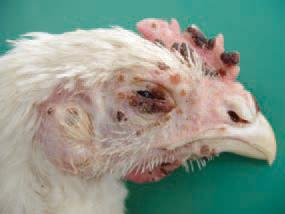Unhealthy: (53, 9, 281, 194)
